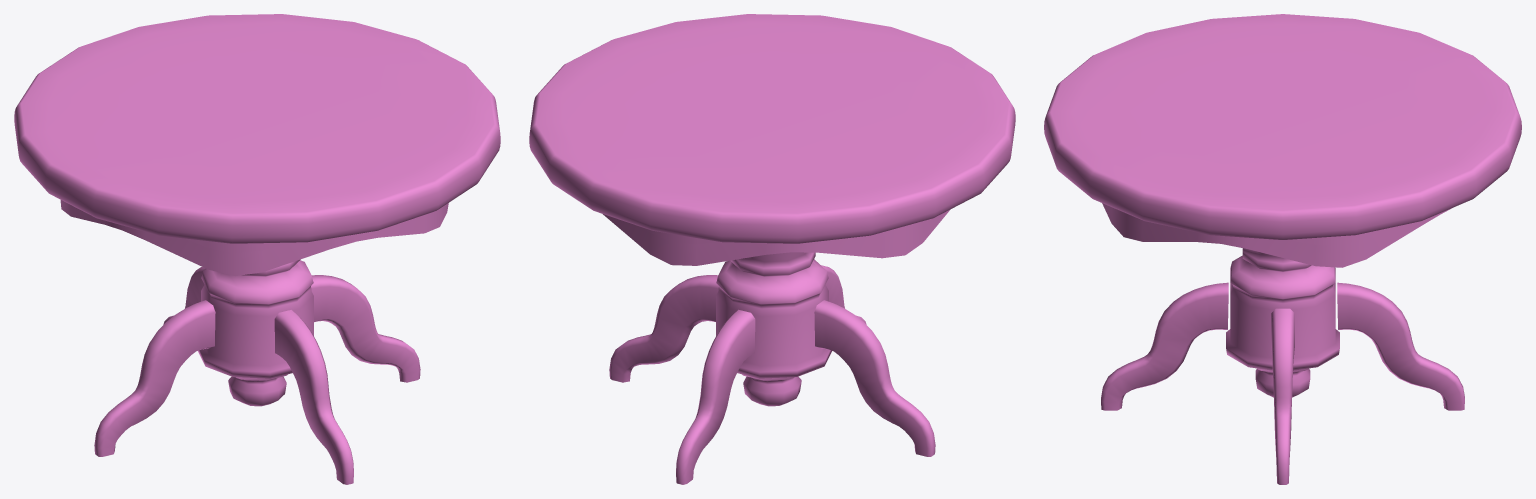
The model's file is ENV_HAU_BIGTABLE_MODEL.fbx.
The picture shows the model from 3 angles, left to right: view 1: azimuth 30°, elevation 25°; view 2: azimuth 150°, elevation 25°; view 3: azimuth 270°, elevation 25°; orthographic projection. The views are drawn at different scales.
Parts seen in each view (by area): view 1: ENV_HAU_BIGTABLE_MODEL; view 2: ENV_HAU_BIGTABLE_MODEL; view 3: ENV_HAU_BIGTABLE_MODEL.
Boxes of the visible parts, x1,y1,x2,y2 form: ENV_HAU_BIGTABLE_MODEL: (14, 14, 500, 484); ENV_HAU_BIGTABLE_MODEL: (529, 14, 1015, 484); ENV_HAU_BIGTABLE_MODEL: (1044, 14, 1521, 484).
Bounding box in the file's own units: 96.11 × 65.9 × 95.99.
